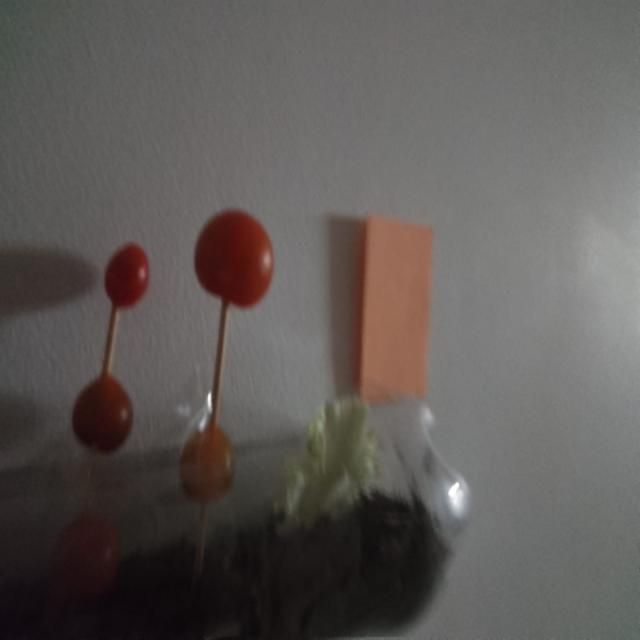card: (358, 216, 432, 401)
fruit_maturation: (180, 419, 235, 503)
fully_grown: (194, 209, 272, 305), (72, 374, 133, 452), (104, 243, 149, 308)
